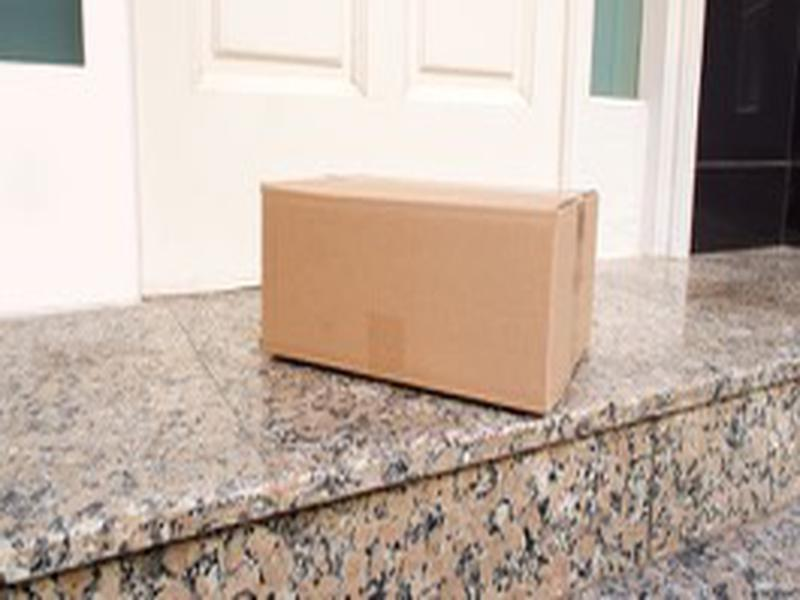package: (251, 166, 604, 421)
